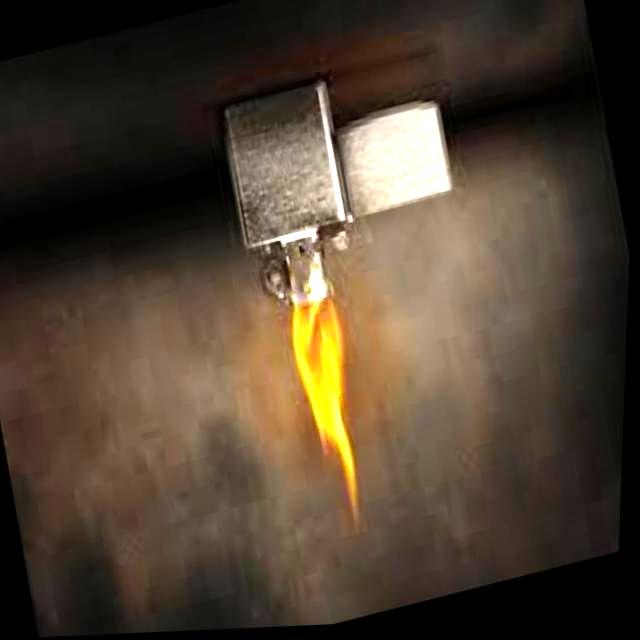fire: (264, 286, 396, 534)
